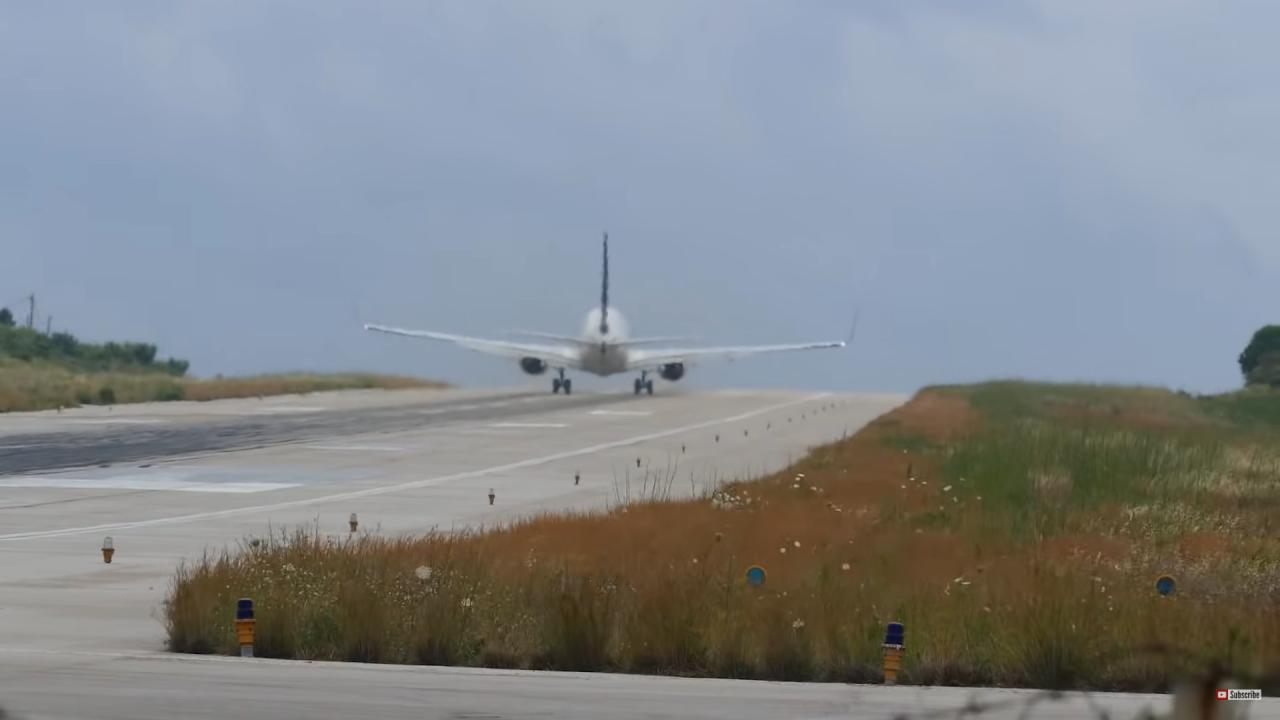Airplane: (348, 221, 868, 405)
